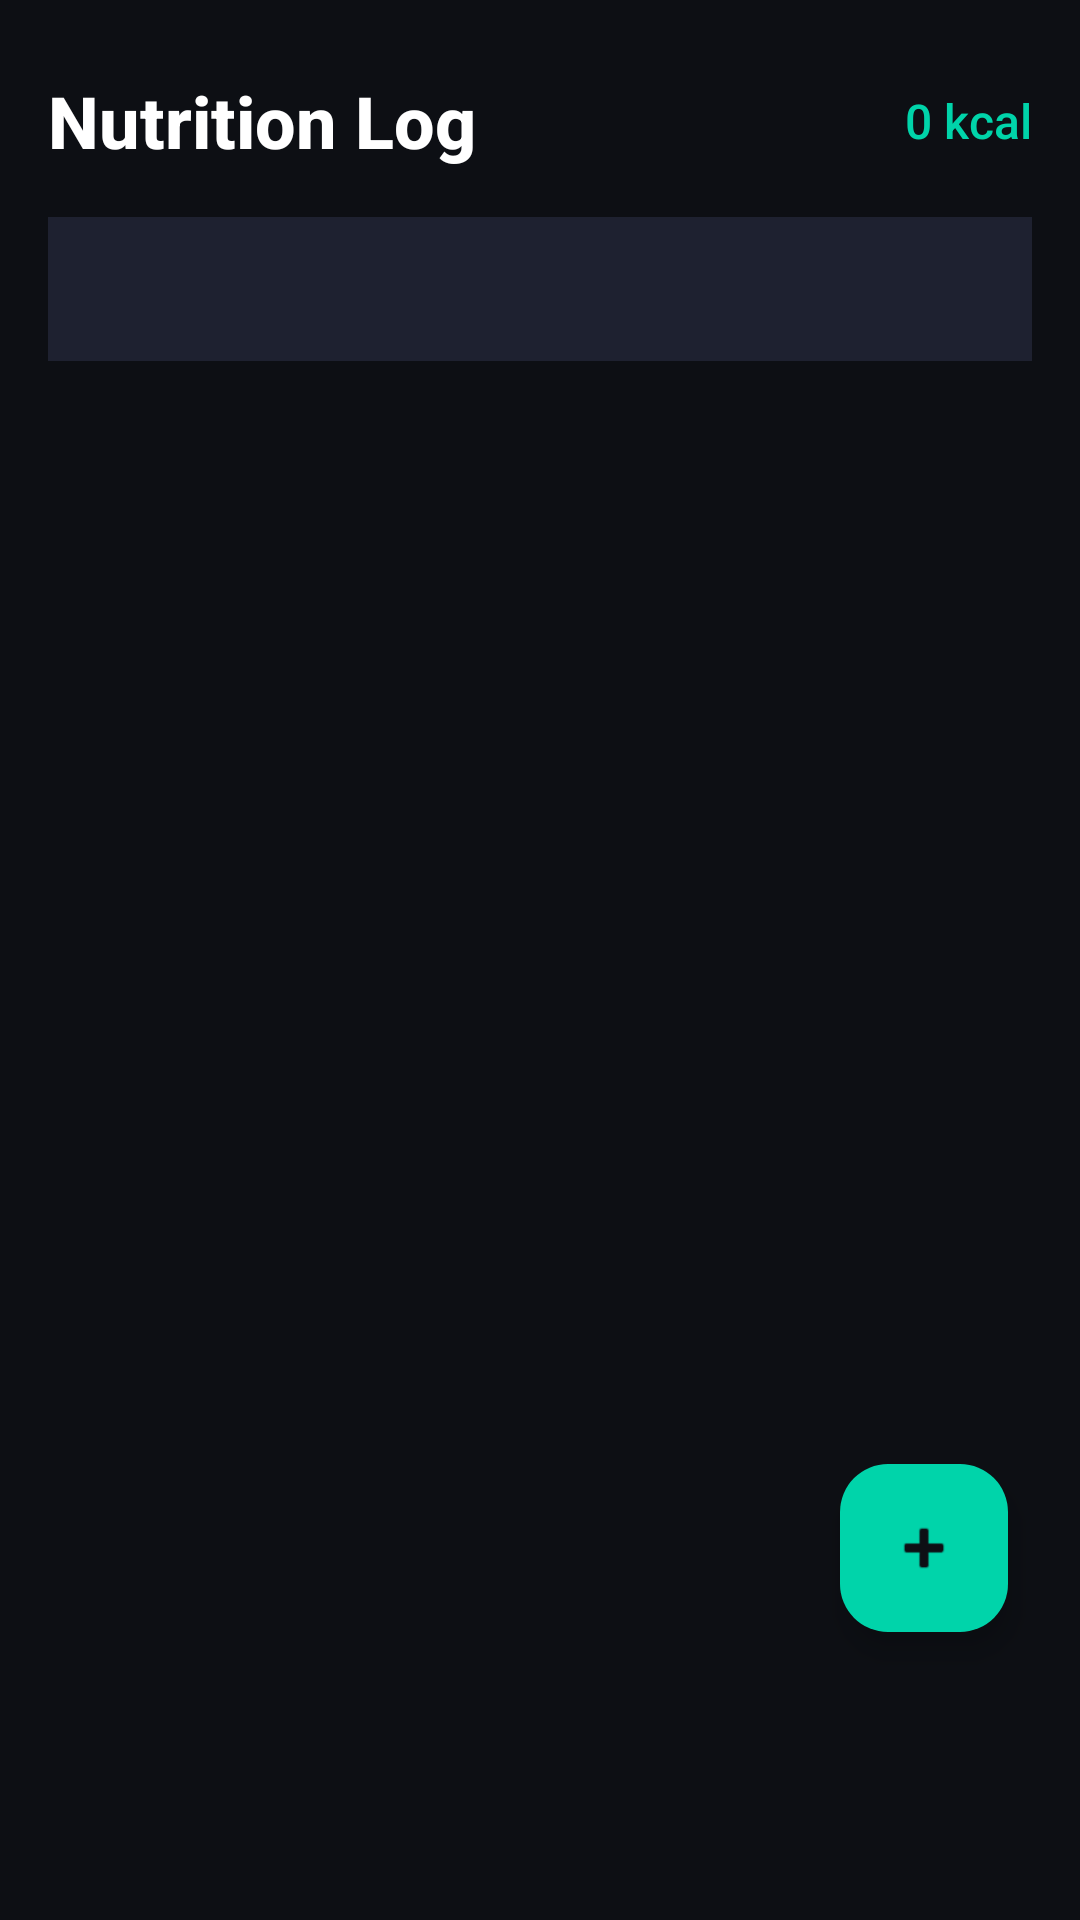

Screen size 1080px×1920px. Icon name, then its center in pixels as (x,y):
Add Food: (924,1548)
